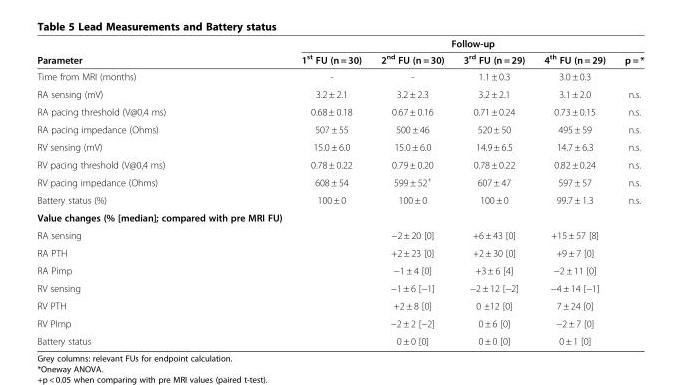table: (36, 37, 643, 346)
table column: (36, 37, 291, 346), (370, 37, 453, 346), (533, 37, 614, 346), (453, 37, 533, 346), (291, 37, 370, 346), (614, 37, 643, 346)
table column header: (36, 37, 643, 67)
table projected row header: (36, 208, 643, 225)
table row: (36, 67, 643, 85), (36, 102, 643, 120), (36, 137, 643, 155), (36, 172, 643, 190), (36, 190, 643, 208), (36, 225, 643, 243), (36, 243, 643, 261), (36, 278, 643, 296), (36, 296, 643, 314), (36, 50, 643, 67), (36, 85, 643, 102), (36, 120, 643, 137), (36, 155, 643, 172), (36, 208, 643, 225), (36, 261, 643, 278), (36, 314, 643, 331), (36, 331, 643, 346), (36, 37, 643, 50)
table spanning cell: (36, 37, 291, 67), (291, 37, 643, 50)
